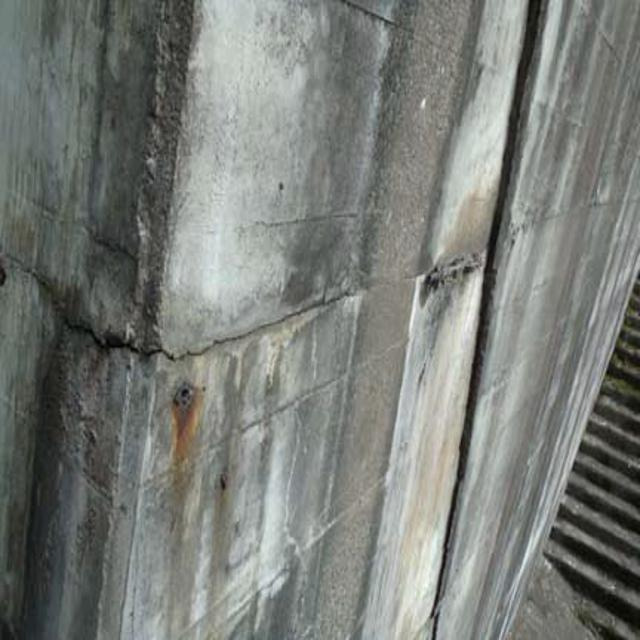crack: (32, 267, 255, 382)
freelime: (366, 260, 473, 623)
